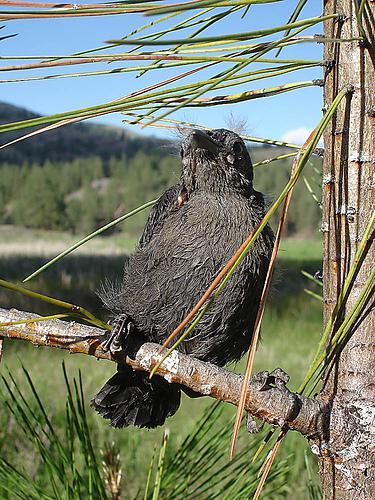009.Brewer_Blackbird: (89, 117, 271, 429)
